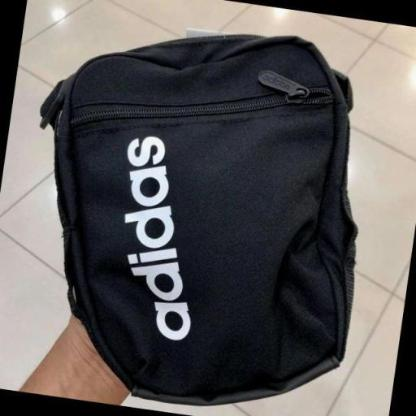bag: (36, 25, 363, 408)
